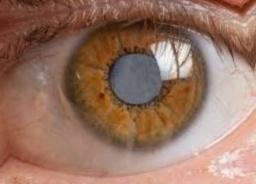eye: (65, 19, 208, 152)
